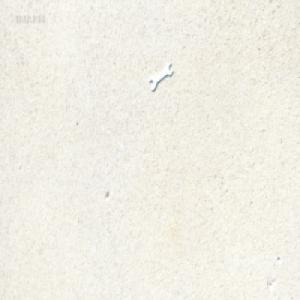Wrench: (150, 63, 173, 93)
